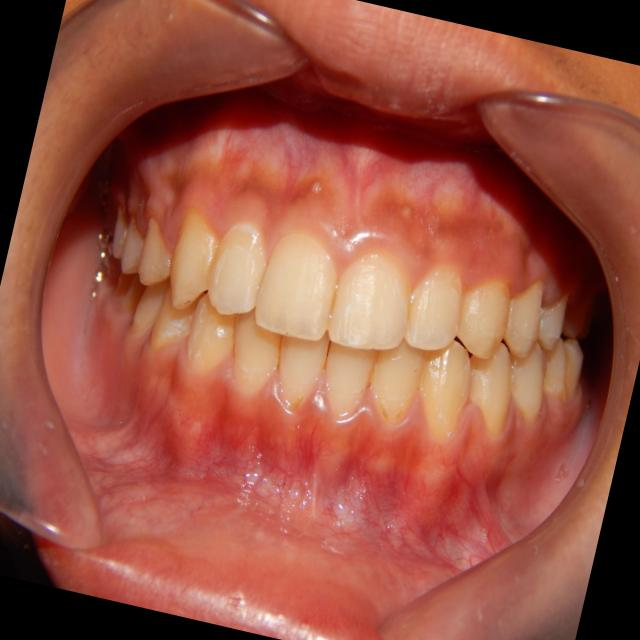Caries: (184, 299, 190, 304)
Tooth: (255, 233, 336, 340), (328, 251, 409, 350), (207, 221, 265, 315), (418, 339, 471, 438), (370, 332, 426, 421), (170, 210, 220, 309), (403, 272, 462, 350), (456, 280, 510, 358), (234, 306, 282, 392), (325, 341, 377, 417), (187, 292, 237, 370), (279, 331, 329, 408), (469, 342, 510, 434), (150, 282, 205, 348), (502, 280, 543, 357), (508, 342, 544, 422), (138, 217, 171, 285), (131, 277, 170, 332), (537, 293, 569, 350), (538, 337, 565, 397), (121, 217, 144, 273), (563, 338, 583, 400)
